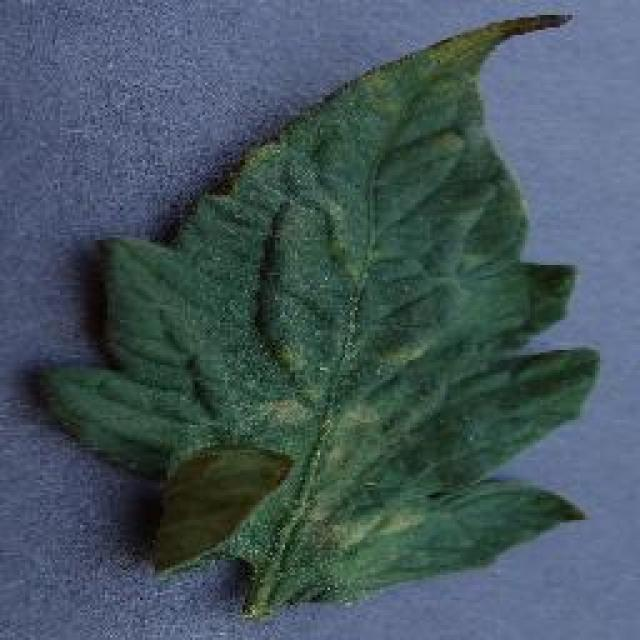leaf mold: (34, 17, 599, 613)
